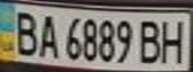6: (60, 12, 84, 62)
8: (78, 15, 100, 62), (97, 16, 118, 63)
9: (112, 16, 139, 64)
A: (33, 10, 60, 60)
B: (9, 7, 42, 57), (136, 16, 166, 64)
H: (157, 16, 190, 64)
